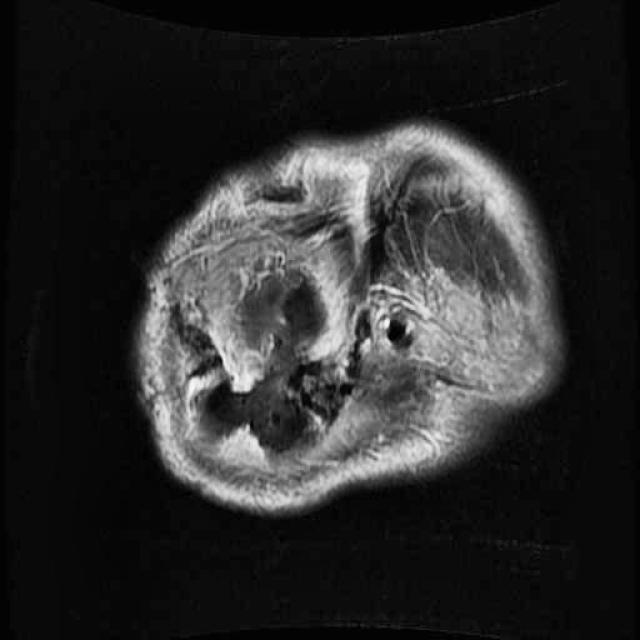Non-Tumor: (186, 246, 339, 470)
